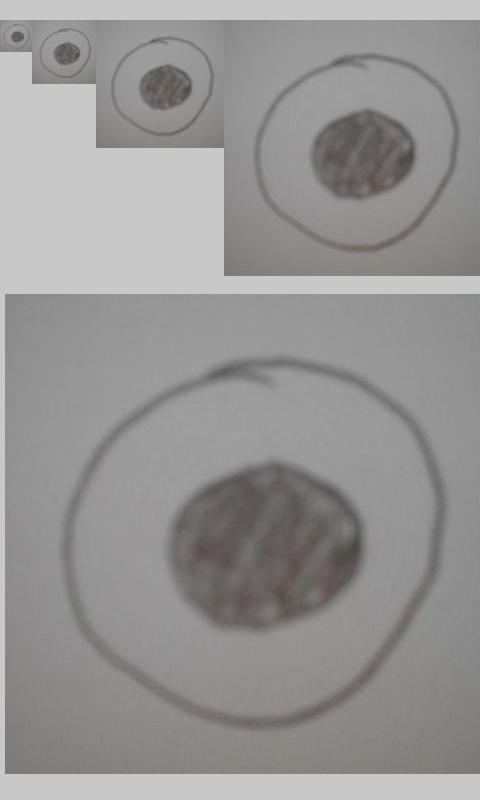radio_button: (58, 353, 447, 735), (253, 51, 462, 255), (110, 35, 215, 137), (38, 27, 92, 79), (2, 23, 29, 50)
